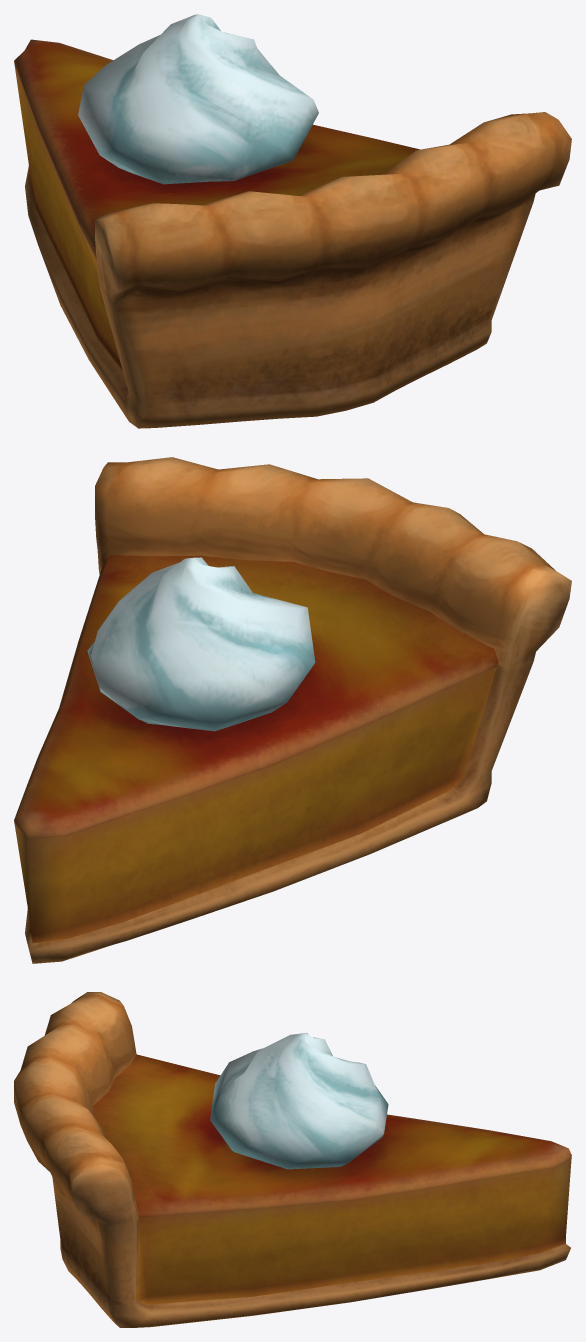
Rendered from pumpkinpie.glb.
The picture shows the model from 3 angles, top to bottom: view 1: azimuth 30°, elevation 25°; view 2: azimuth 150°, elevation 25°; view 3: azimuth 270°, elevation 25°; orthographic projection. The views are drawn at different scales.
Parts seen in each view (by area): view 1: Slice, Cream; view 2: Slice, Cream; view 3: Slice, Cream.
Part boxes in pixels (box(x1,y1,x2,y2)): Slice: box(14, 39, 571, 428); Cream: box(78, 14, 318, 184); Slice: box(14, 457, 571, 963); Cream: box(87, 557, 315, 731); Slice: box(14, 992, 571, 1327); Cream: box(210, 1032, 388, 1169).
Size of the model in its own units: 620 by 376 by 818.
3 materials, 3 textured.
